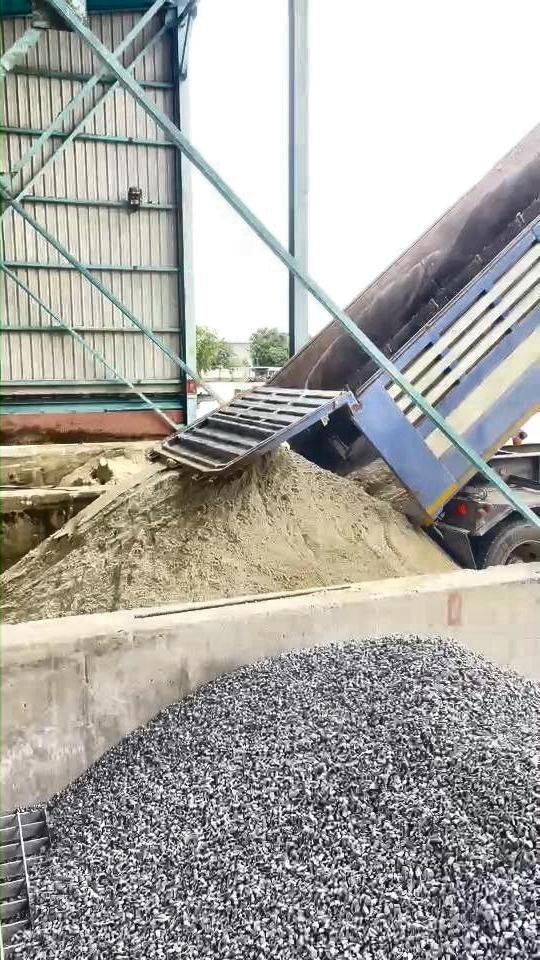gravel: (18, 637, 539, 959)
sand: (4, 449, 453, 621), (351, 458, 423, 525), (62, 449, 146, 485)
